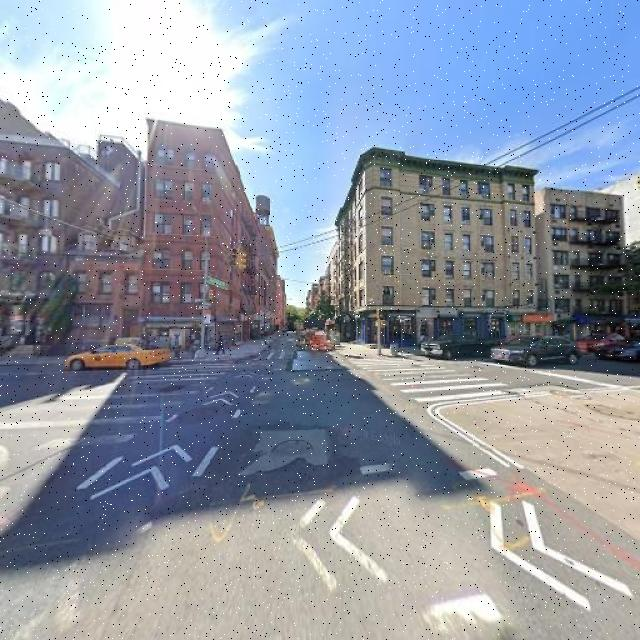Building: (332, 157, 537, 342), (147, 127, 268, 354), (44, 254, 143, 357)
